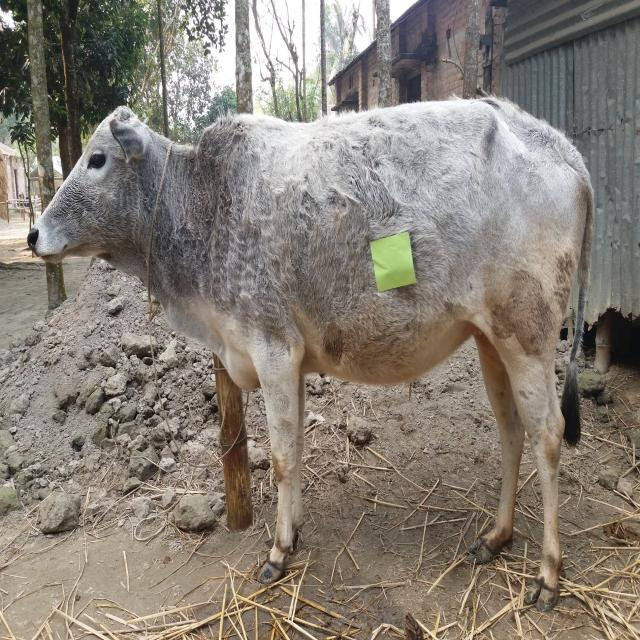badan_sapi: (215, 104, 586, 396)
sapi: (25, 92, 598, 615)
